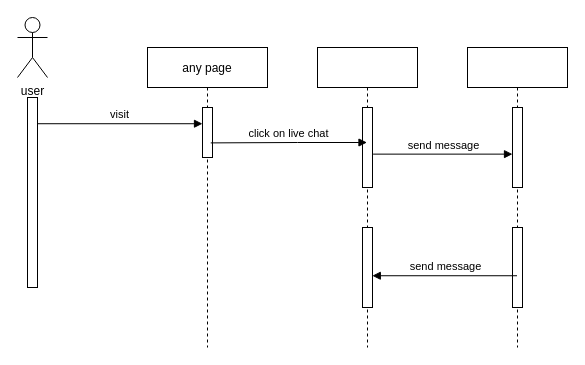
The diagram is 585 pixels wide and 365 high, and some of its shapes have lost their labels. The centre of each missing label's shape, as x and y in pixels:
"live chat" belongs at (x=367, y=197).
"server" belongs at (x=517, y=197).
